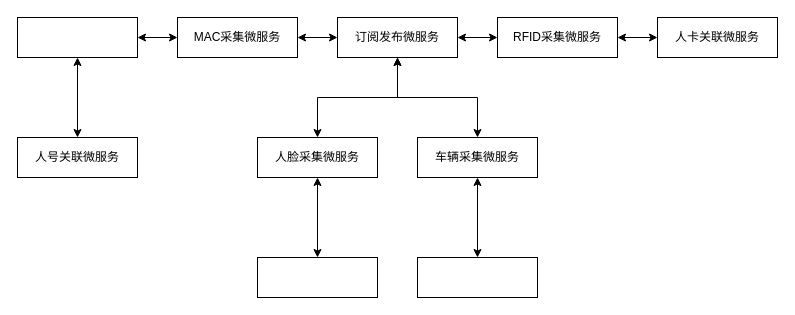
Image size: 795x315. Some labels were removed from this diagram. Each missing label, with the centre of its shape:
"人脸比对微服务" goes at (x=317, y=277).
"人车关联微服务" goes at (x=477, y=277).
"手机号关联微服务" goes at (x=77, y=37).
